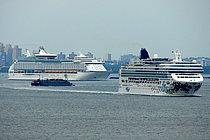Ship: (115, 52, 209, 102), (7, 44, 114, 84)
